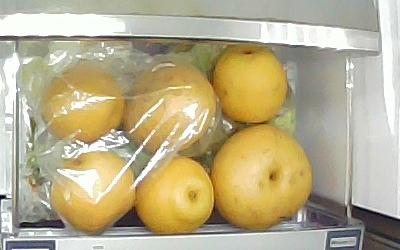pear: (212, 125, 312, 231), (136, 157, 215, 235), (212, 44, 288, 124)
pear_vinyl: (126, 60, 217, 157), (51, 150, 136, 234), (40, 65, 125, 145)
